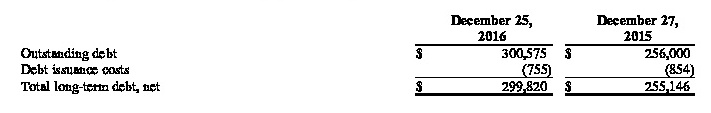table: (0, 0, 711, 113)
